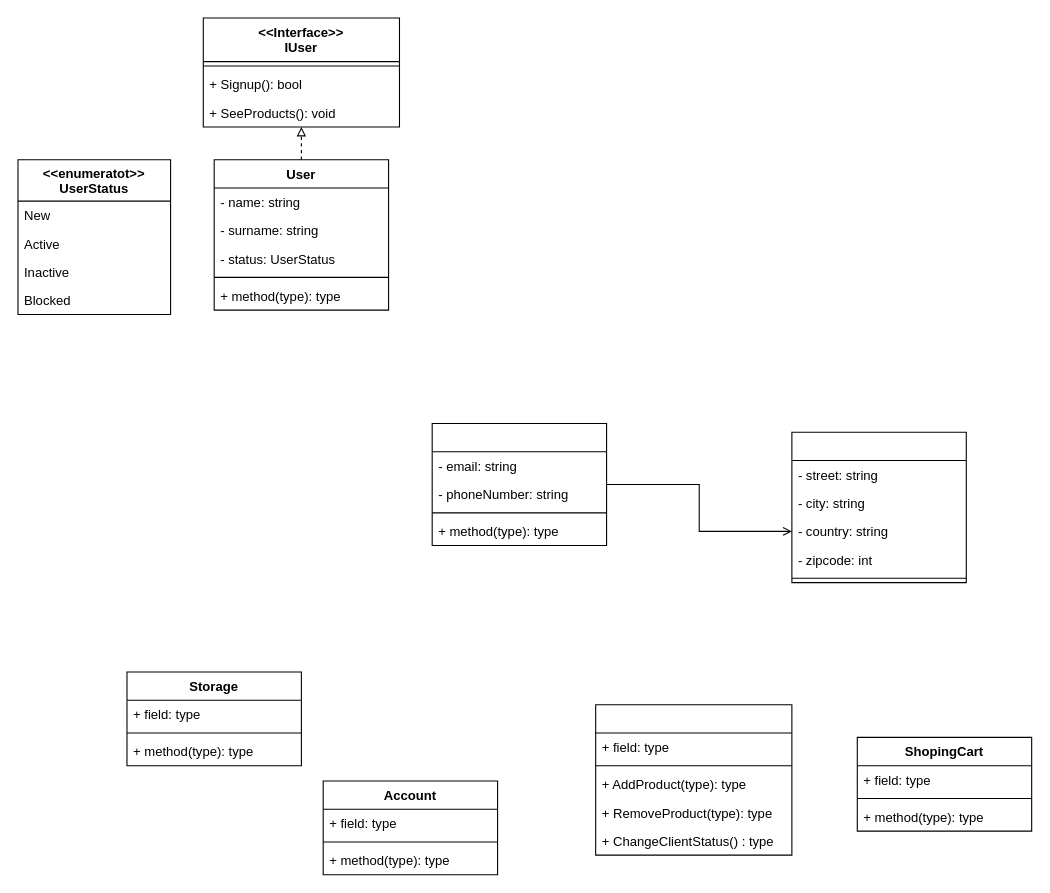
Some shapes in this 1050 by 893 pixel diagram are drawn without their labels. Each missing label, with the box of its shape:
Address: (791, 431, 966, 583)
Admin: (595, 704, 792, 855)
Customer: (431, 422, 607, 546)
